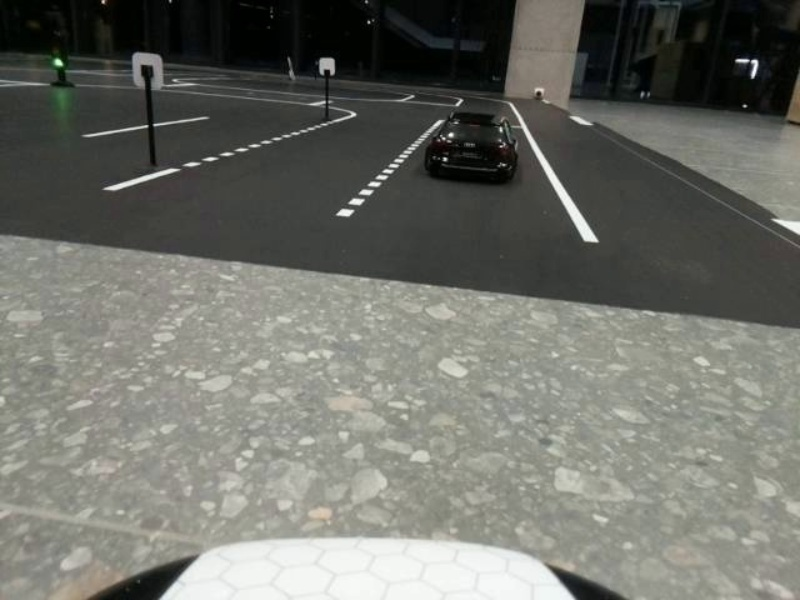car: (427, 103, 529, 187)
